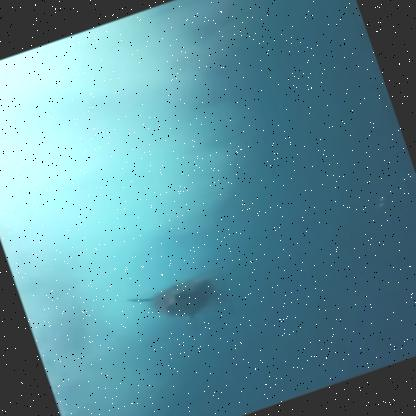mako-shark: (126, 265, 238, 349)
